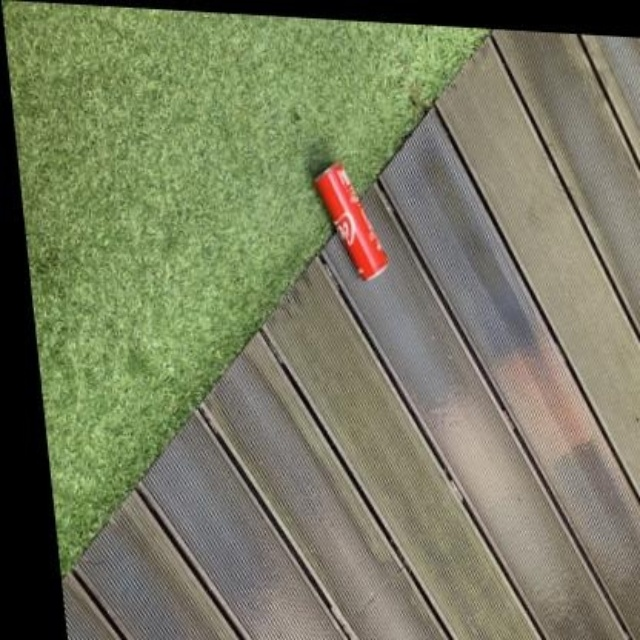trash: (314, 163, 386, 278)
